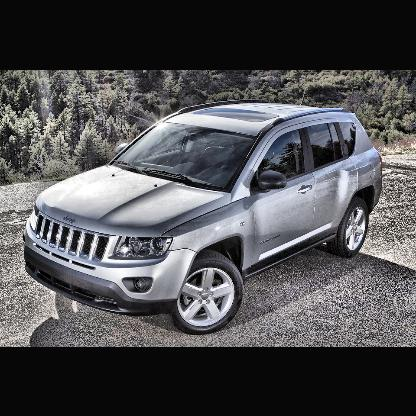Jeep Compass SUV 2012: (25, 100, 383, 332)
